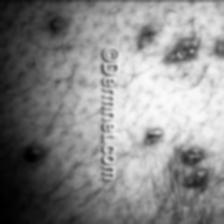Unclassified: (169, 34, 200, 62), (25, 143, 47, 166), (188, 166, 212, 182)
